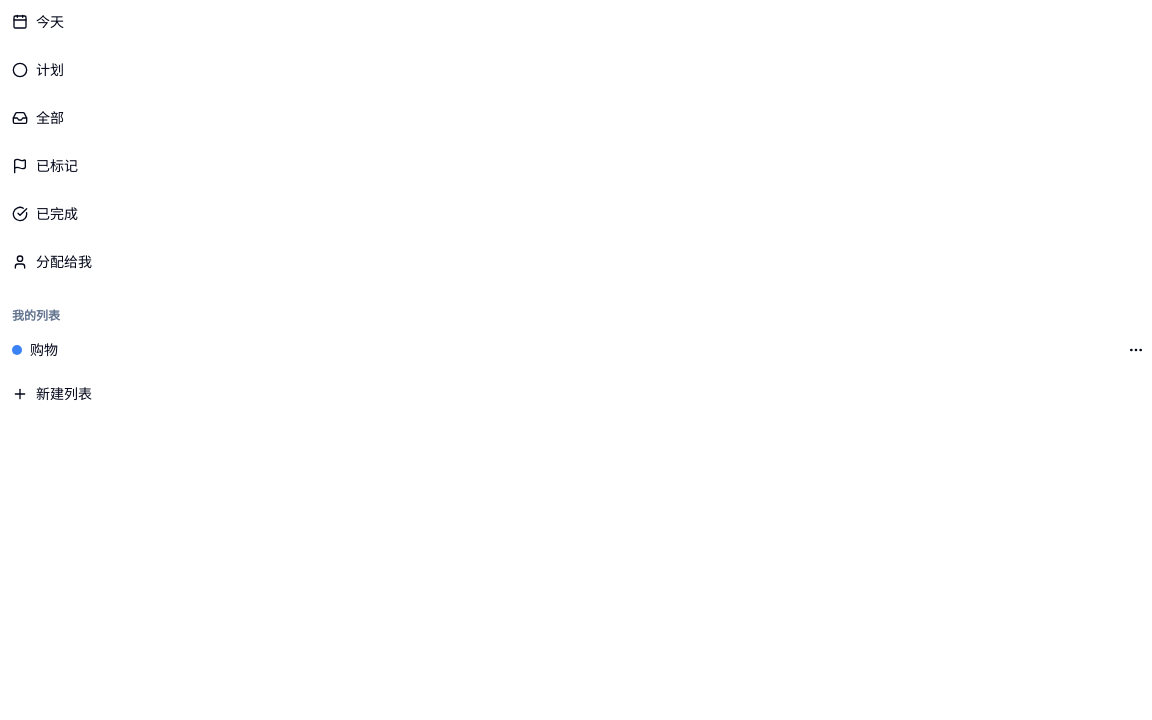
it: Sidebar › opens the edit dialog when edit is clicked
Click the button named "列表设置" at [1136, 350], box [1120,334,1151,366]
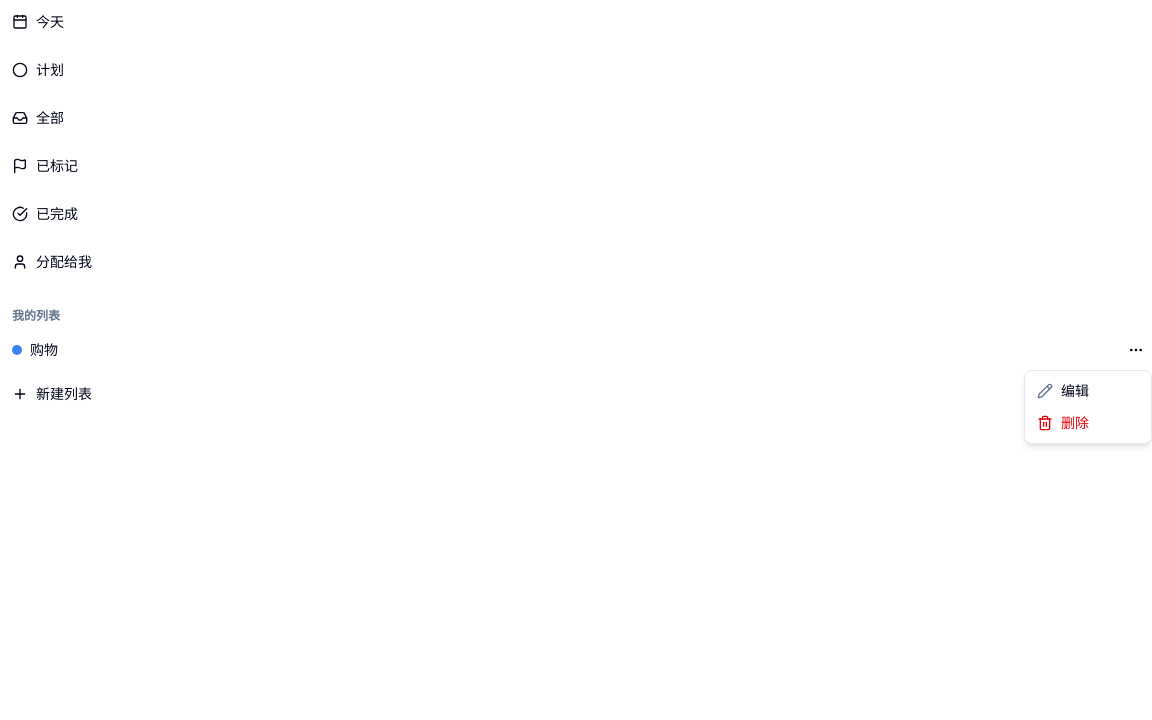
Click the menu item "编辑" at [1063, 390], box [1037,381,1089,400]
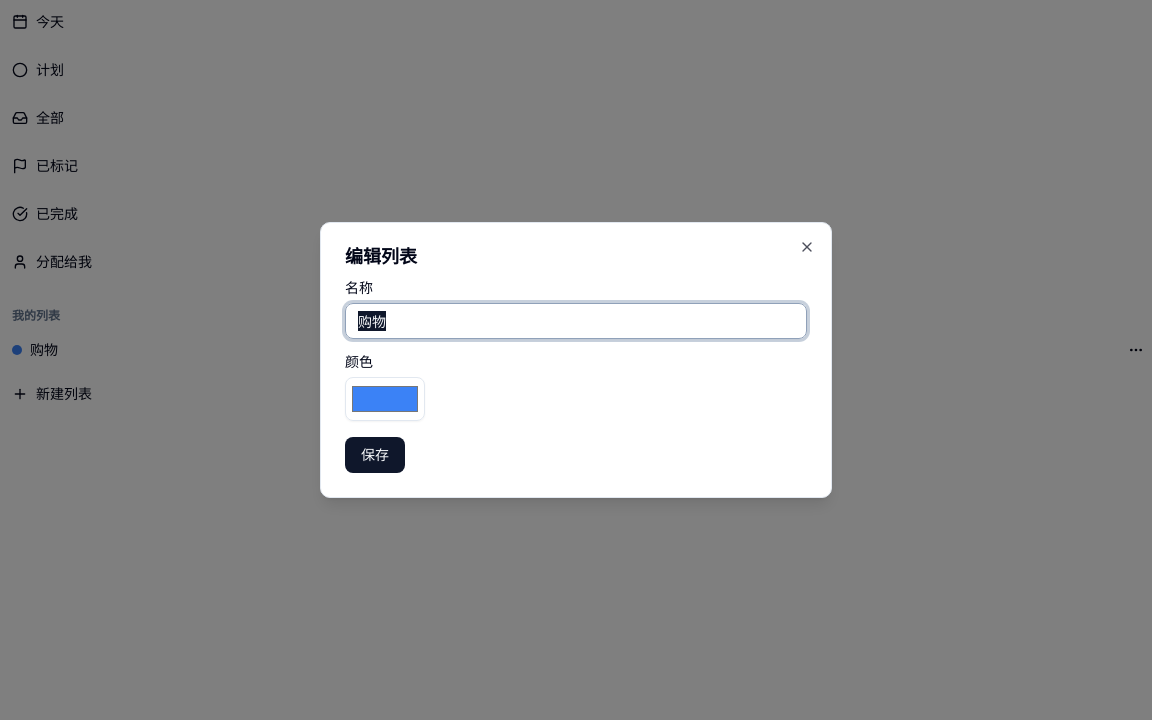
Result: the heading "编辑列表" is shown at [345,244,417,268]
Result: the field labelled "名称" holds "购物" at [345,303,807,339]
Result: the colour field labelled "颜色" holds "#3b82f6" at [345,377,425,421]
